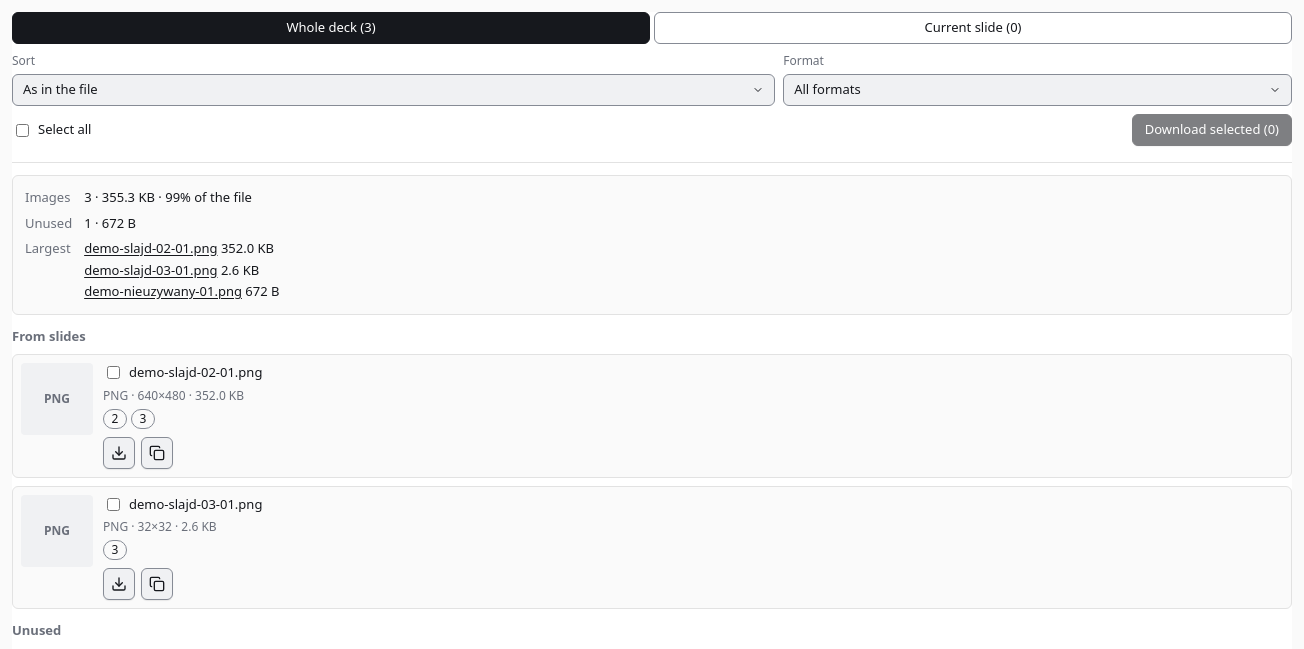
Test: ImagePanel › reports other picker errors inline
This screenshot has width=1304, height=649.
Click the checkbox labelled "Select all".
click(22, 130)  # box [16, 124, 29, 136]
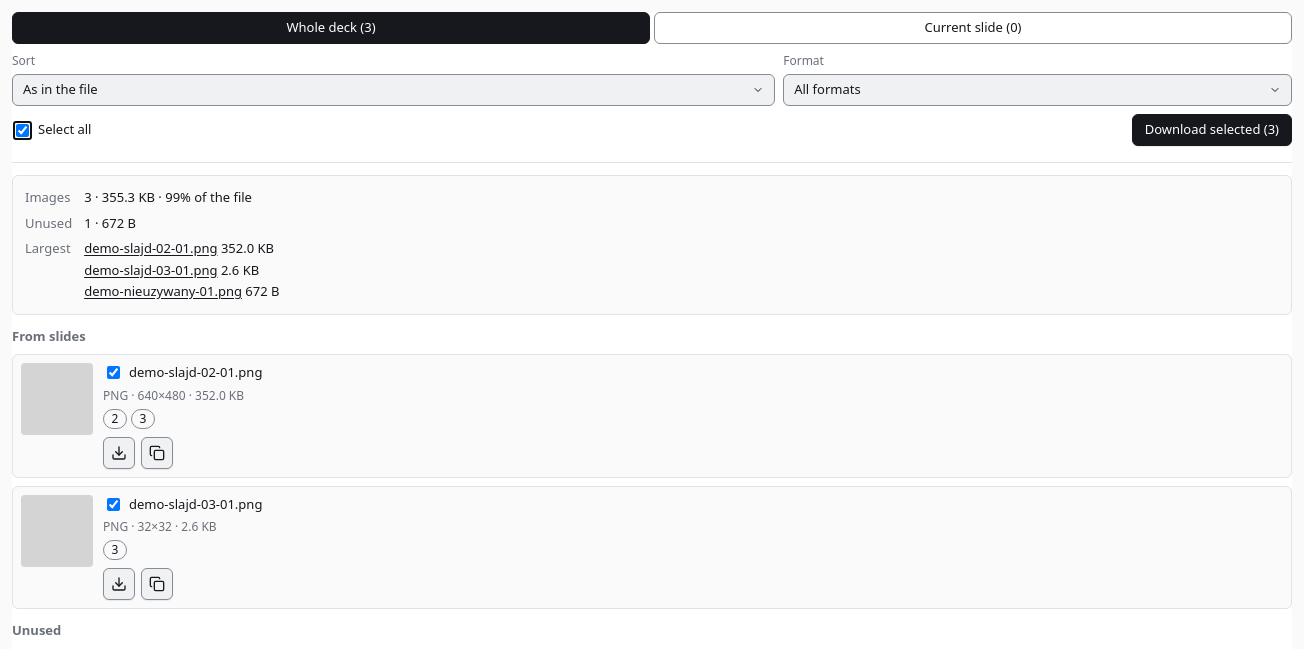
Click the button "Download selected (3)".
click(1212, 130)  # box [1132, 114, 1292, 146]
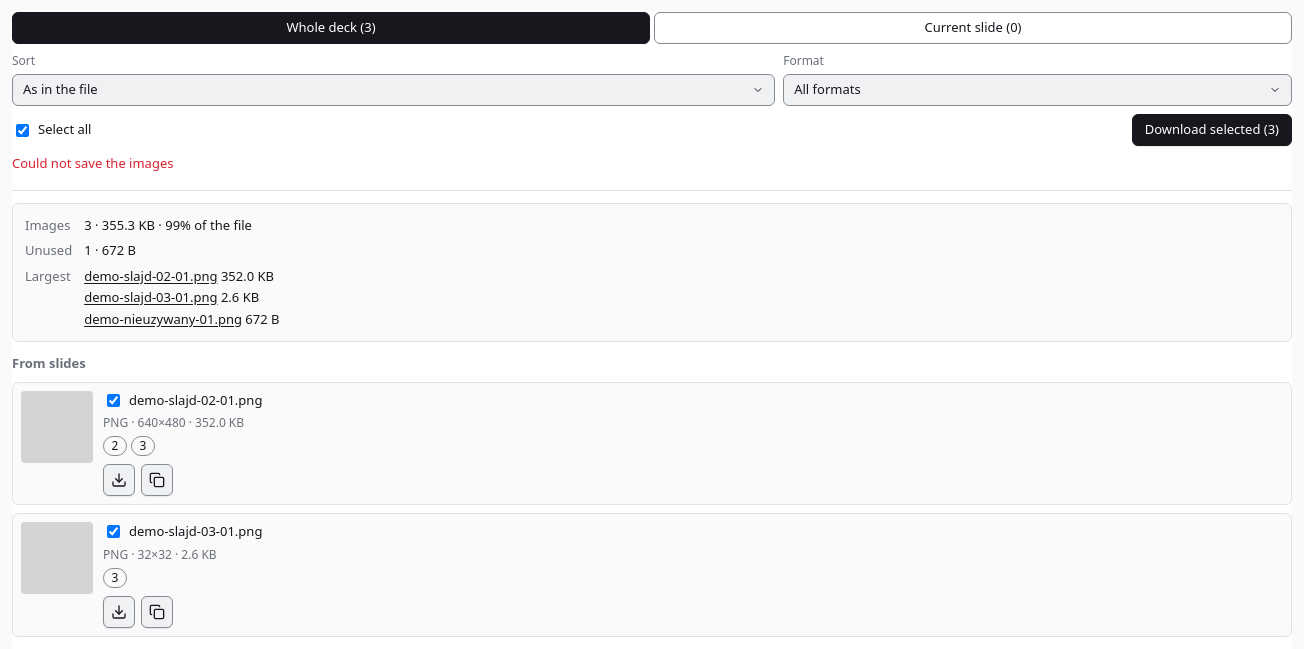
Check: the message reads "Could not save the images", box [12, 154, 174, 172]
